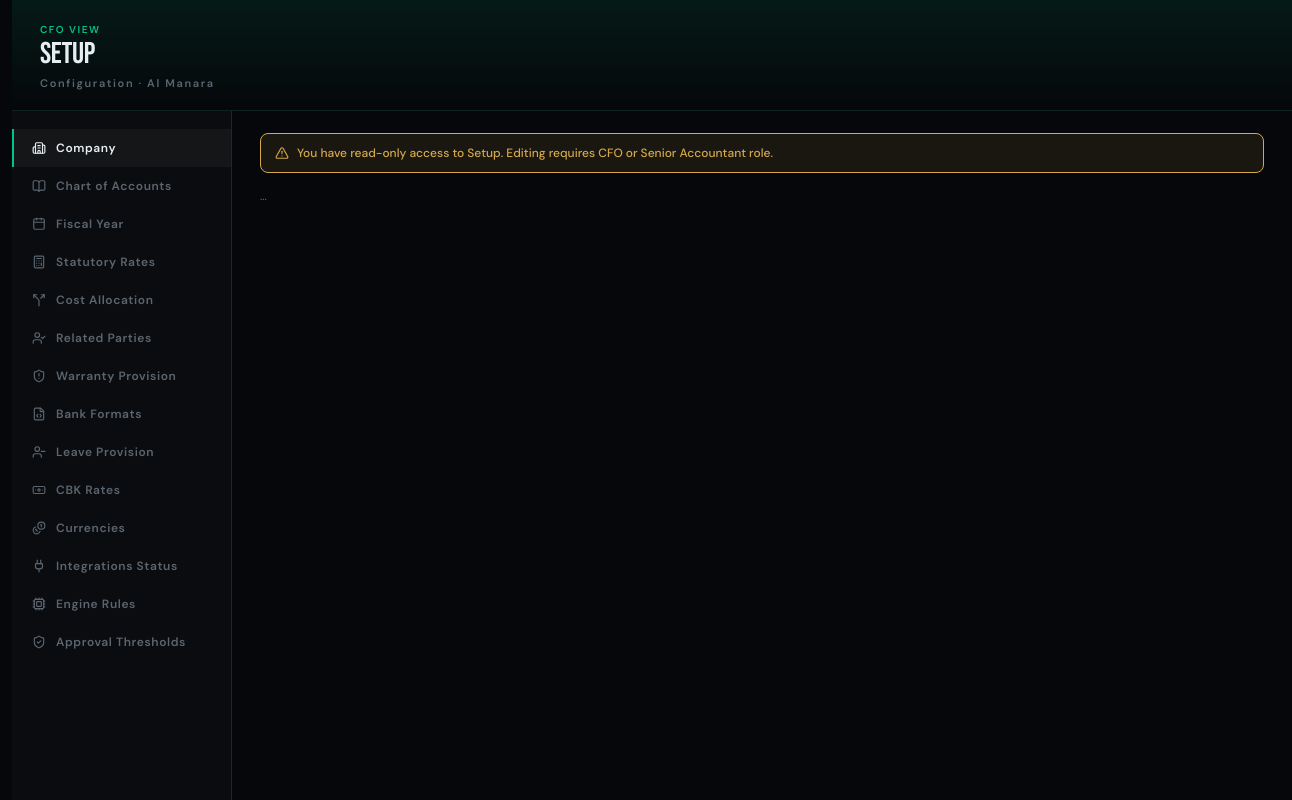
HASEEB-448 — SetupScreen onboarding polish › Junior role: fiscal-position save disabled
What coordinates should you click on to do the following:
click the button "Fiscal Year"
I would click on:
 (122, 224)
Its box is [12,204,231,242].
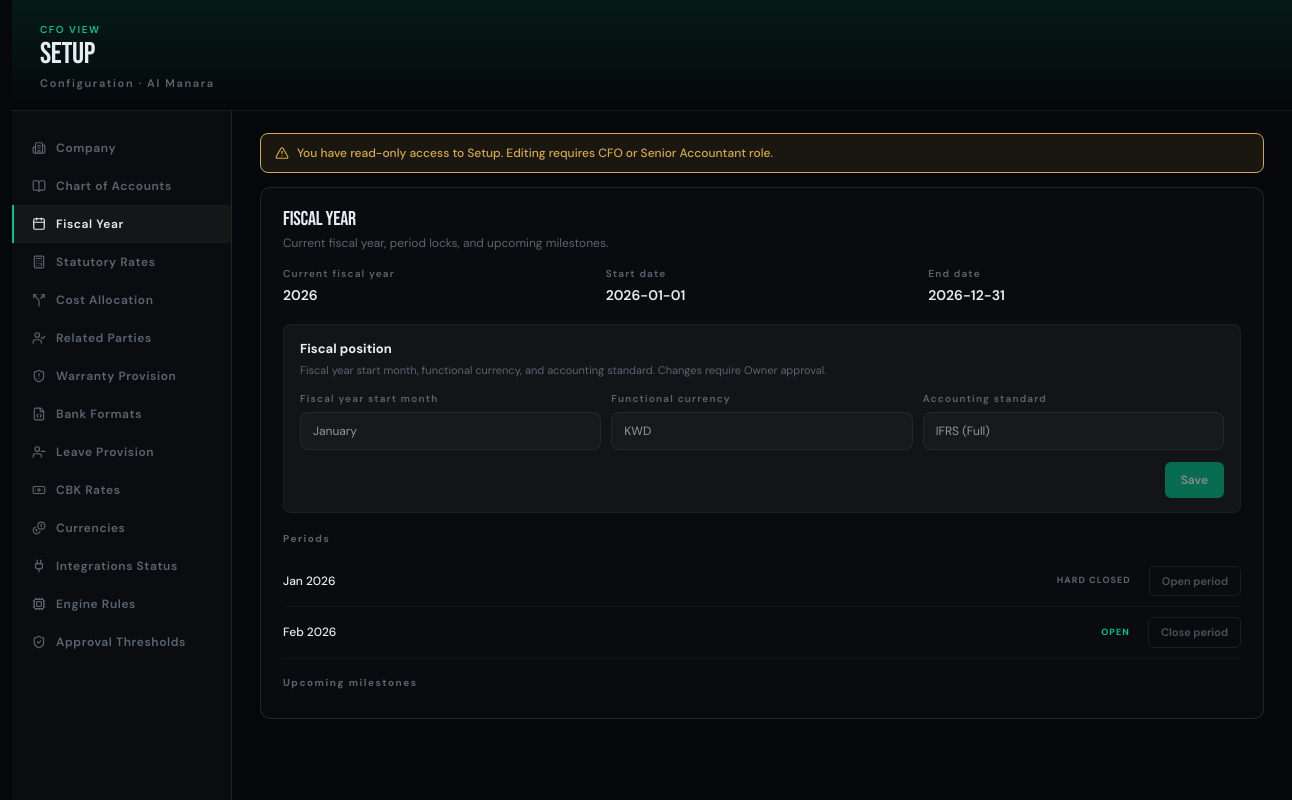
Result: the button with test id "fiscal-position-save" is disabled at [1165,462,1224,498]
